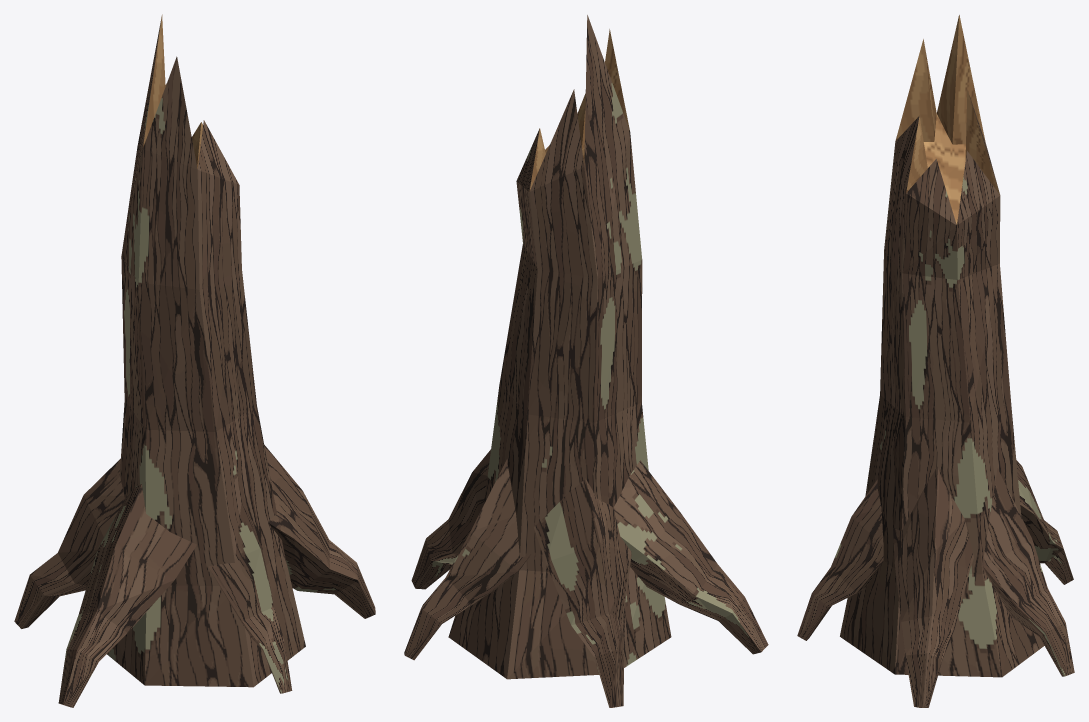
The model's file is SM_TR11_Snapped.fbx.
The picture shows the model from 3 angles, left to right: view 1: azimuth 30°, elevation 25°; view 2: azimuth 150°, elevation 25°; view 3: azimuth 270°, elevation 25°; orthographic projection. The views are drawn at different scales.
Visible parts, largest first — view 1: TR11_Bark, TR11_Parts; view 2: TR11_Bark, TR11_Parts; view 3: TR11_Bark, TR11_Parts.
Boxes of the visible parts, box(x1,y1,x2,y2) form: TR11_Bark: box(14, 17, 375, 707); TR11_Parts: box(143, 14, 202, 168); TR11_Bark: box(404, 15, 768, 707); TR11_Parts: box(529, 29, 629, 191); TR11_Bark: box(797, 95, 1074, 707); TR11_Parts: box(895, 15, 999, 224).
Bounding box in the file's own units: 2.57 × 4.66 × 1.92.
